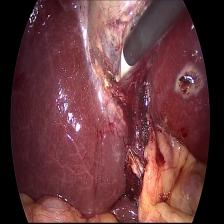Hook: (111, 46, 134, 91)
